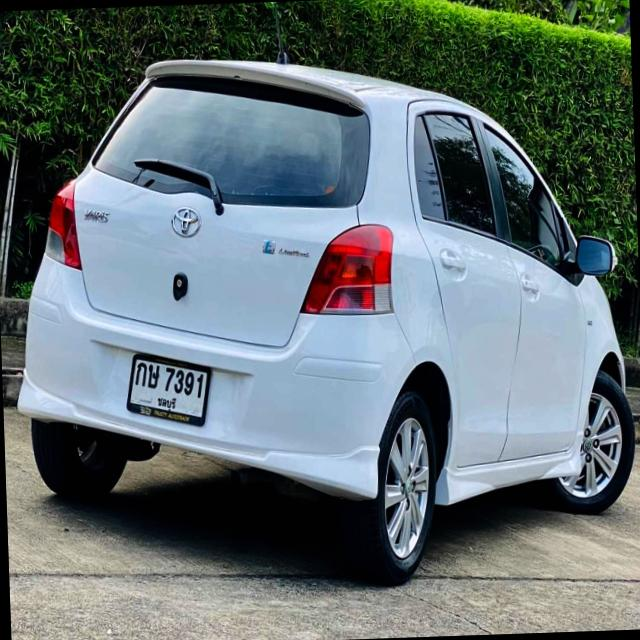license_plate: (124, 348, 214, 431)
